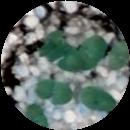Basil: (46, 45, 87, 76), (35, 77, 72, 104), (74, 34, 104, 65), (82, 88, 114, 112), (108, 36, 130, 68)
